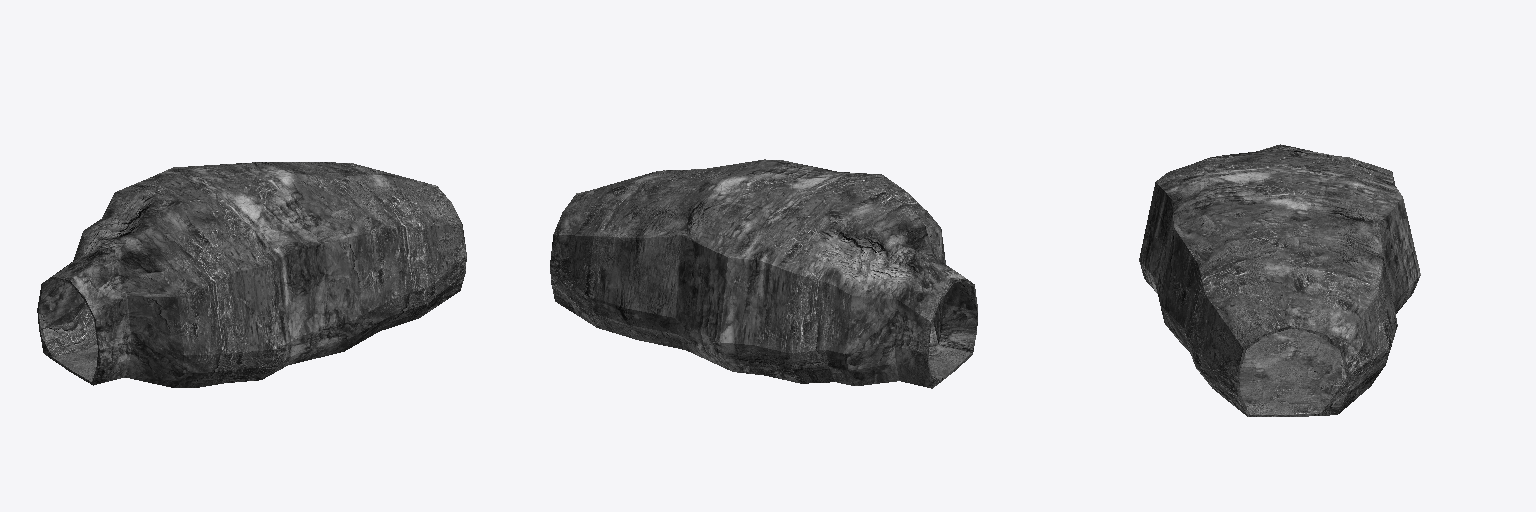
3 renders of one model, left to right at view 1: azimuth 30°, elevation 25°; view 2: azimuth 150°, elevation 25°; view 3: azimuth 270°, elevation 25°, orthographic.
Visible parts, largest first — view 1: cavelarge; view 2: cavelarge; view 3: cavelarge.
Boxes of the visible parts, x1=… form: cavelarge: x1=37, y1=162, x2=466, y2=387; cavelarge: x1=550, y1=159, x2=977, y2=388; cavelarge: x1=1139, y1=144, x2=1420, y2=416.
Bounding box in the file's own units: 392 × 140 × 253.
2 materials, 2 textured.